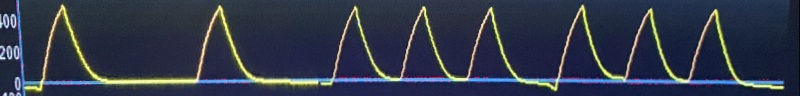normal_volume: (40, 0, 762, 92)
